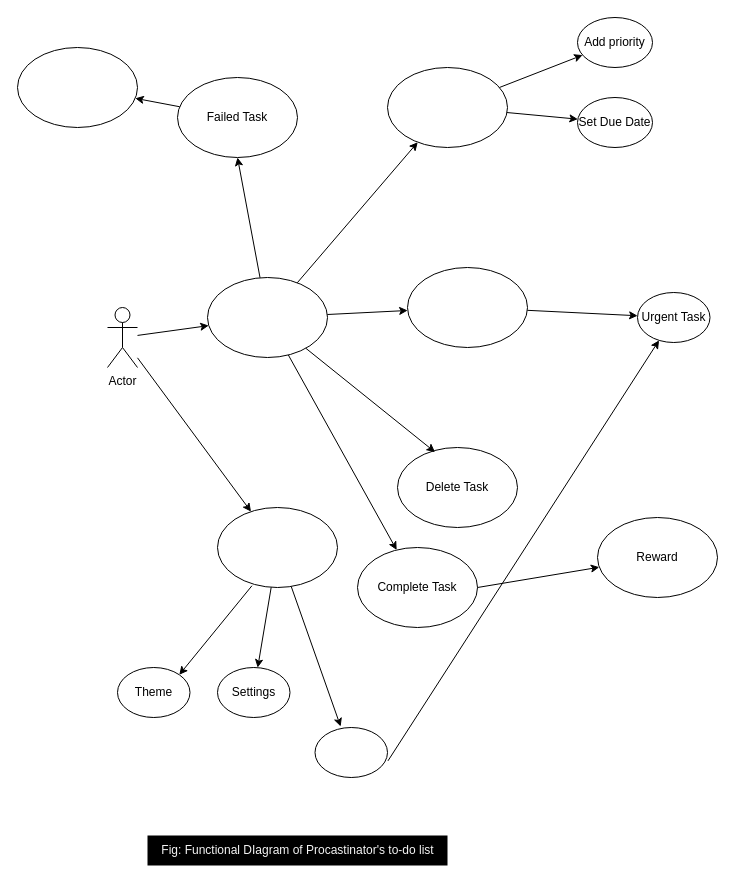
This 743x883 diagram has some shape labels left out. The shapes that lost their labels are listed below. From the top down, each one's centre as x and y in pixels, then its label:
At (x=77, y=87): "Procasstinator level increase".
At (x=447, y=107): "Add Task".
At (x=267, y=317): "Task Management".
At (x=467, y=307): "View Task".
At (x=277, y=547): "Customize".
At (x=351, y=752): "Notification".
